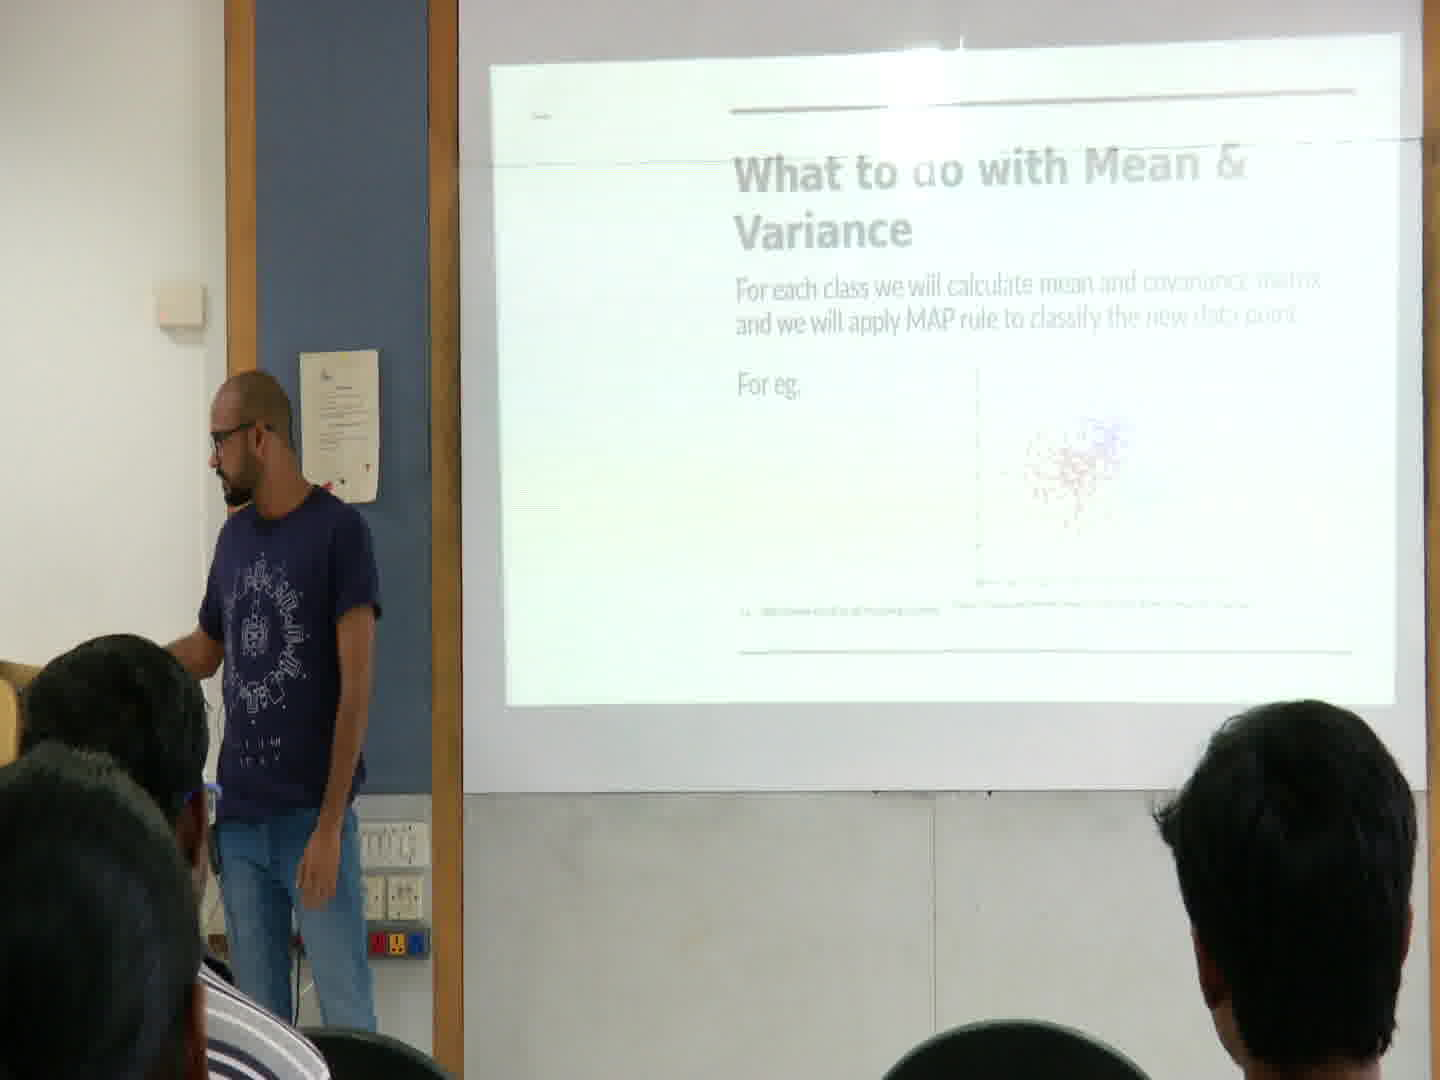slide: (488, 32, 1397, 704)
